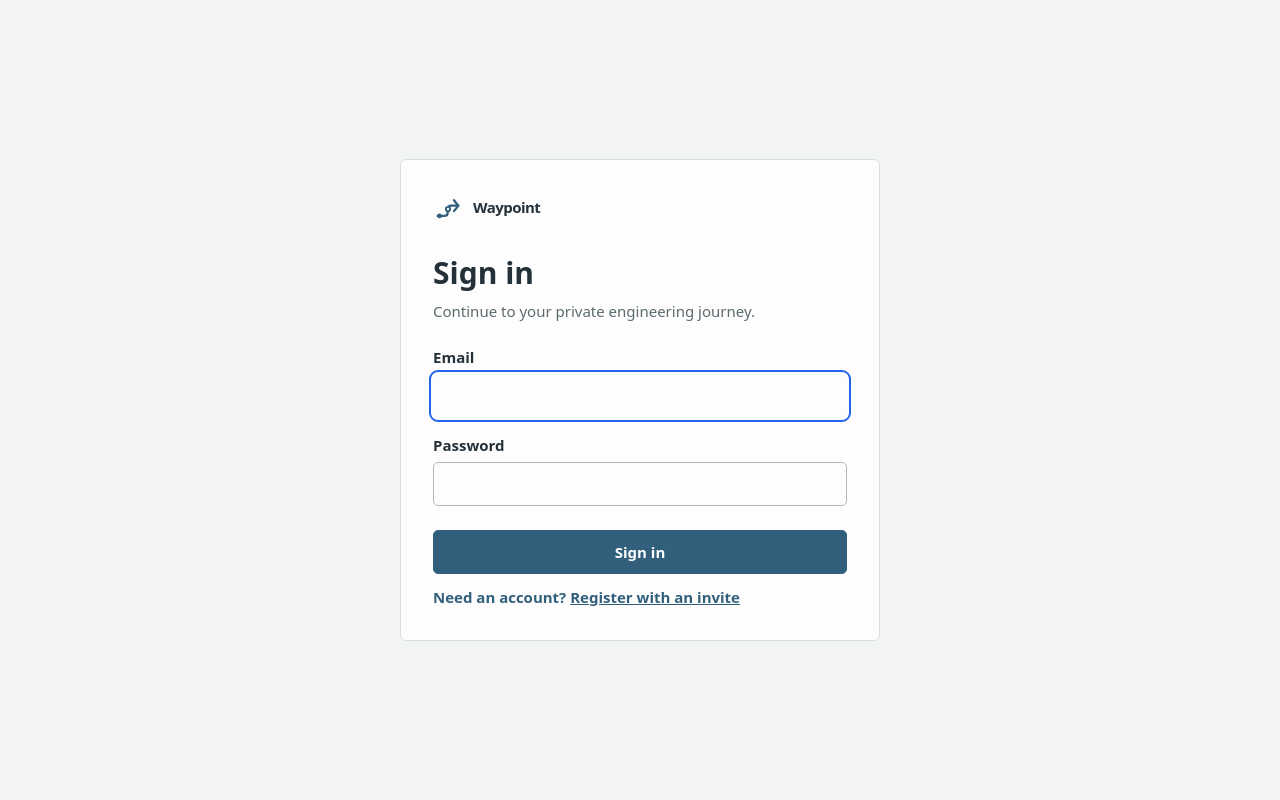
Test: authentication checkpoint › signs in and exposes an owner account menu with sign out
Type "owner@example.test" into the field labelled "Email" at [640, 396], box x1=433 y1=374 x2=847 y2=418
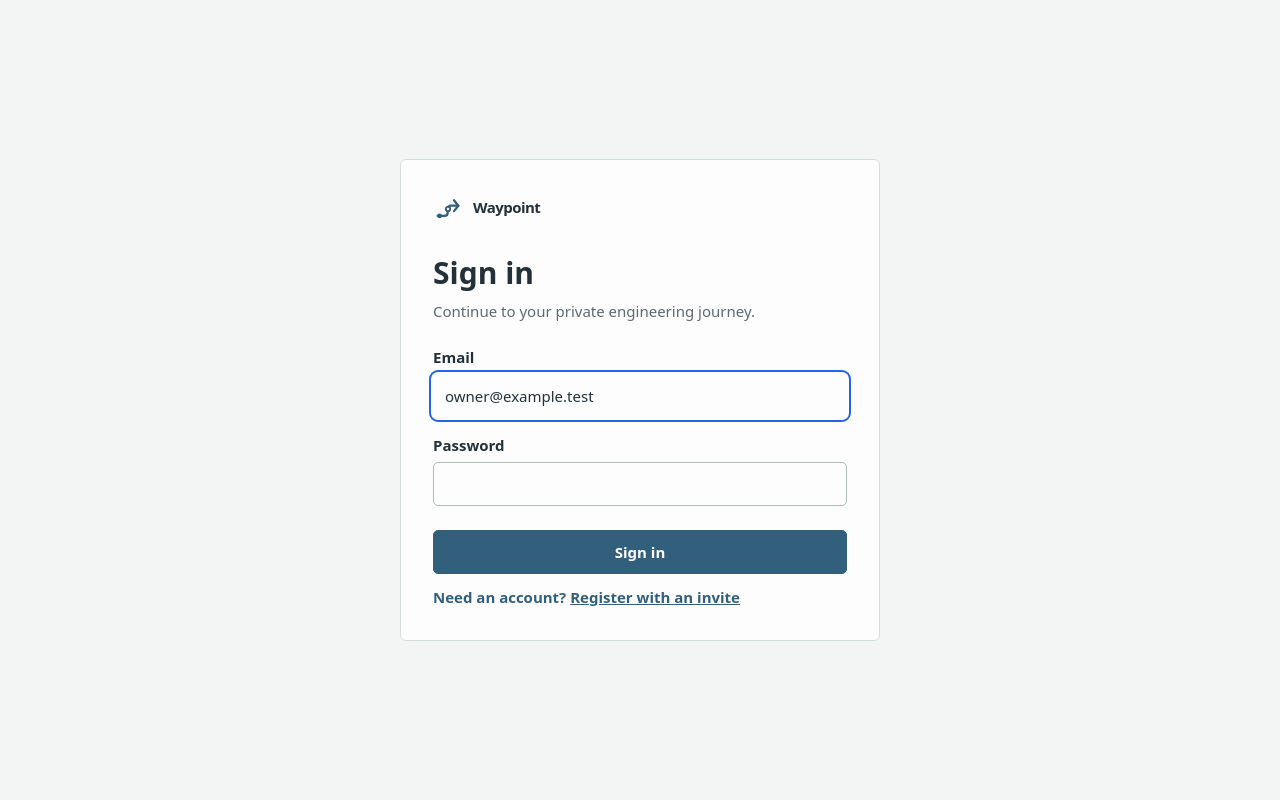
Type "a long passphrase" into the password field labelled "Password" at [640, 484], box x1=433 y1=462 x2=847 y2=506
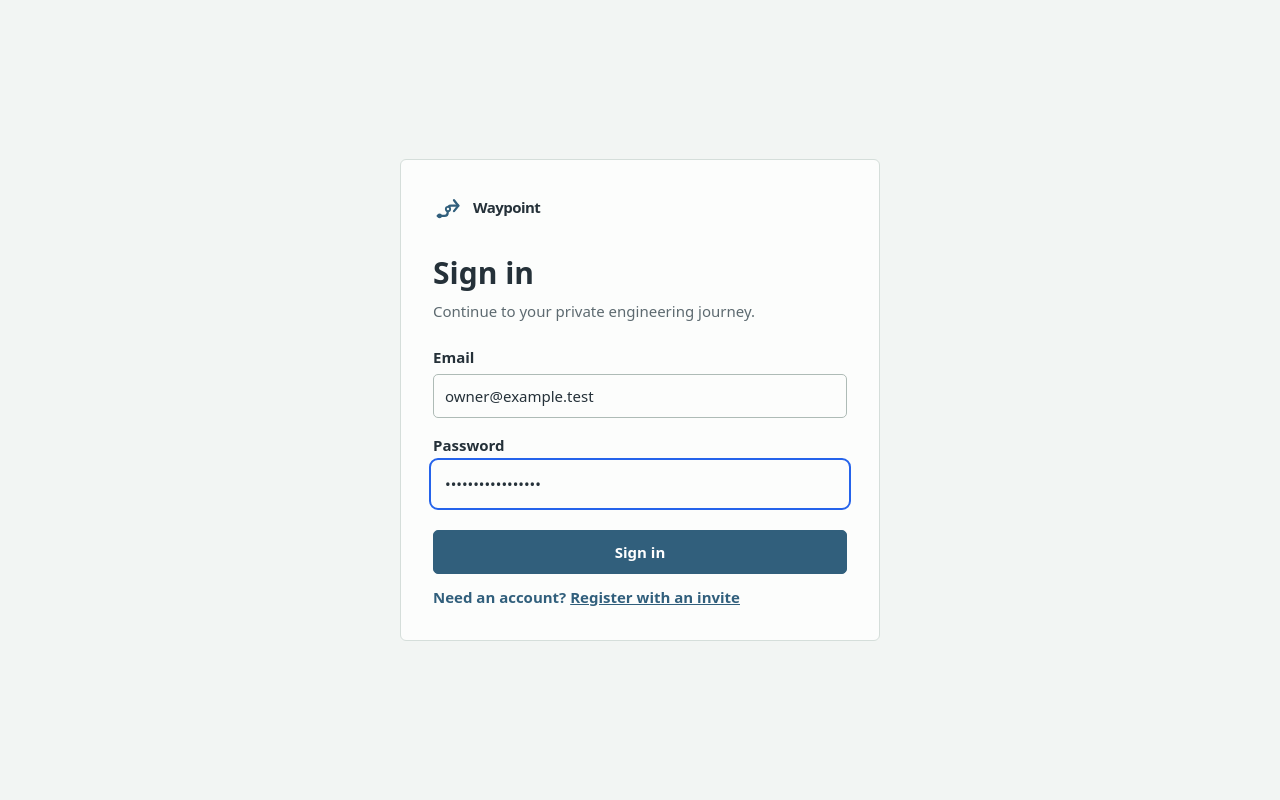
Click the button "Sign in" at [640, 552], box x1=433 y1=530 x2=847 y2=574
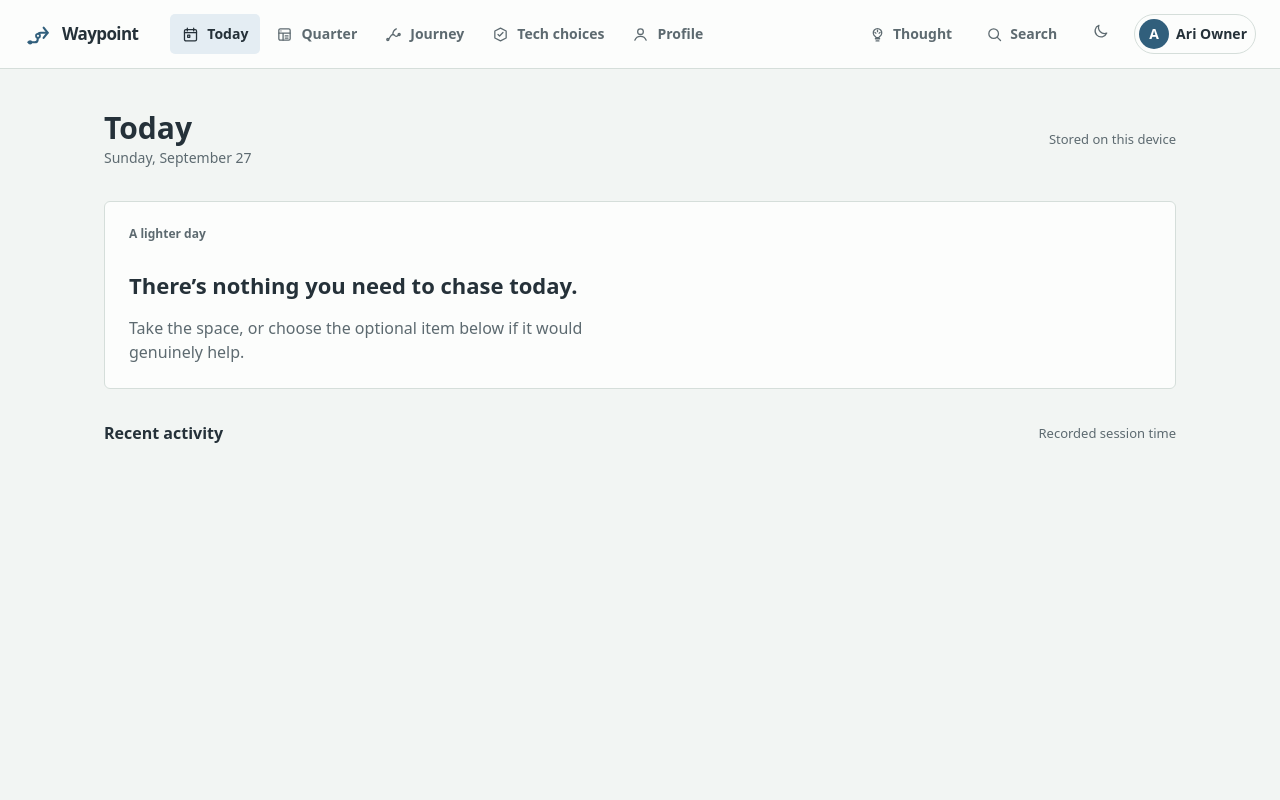
Now the button "A Ari Owner" is shown
Click the button "A Ari Owner" at [1195, 34], box x1=1134 y1=14 x2=1256 y2=54
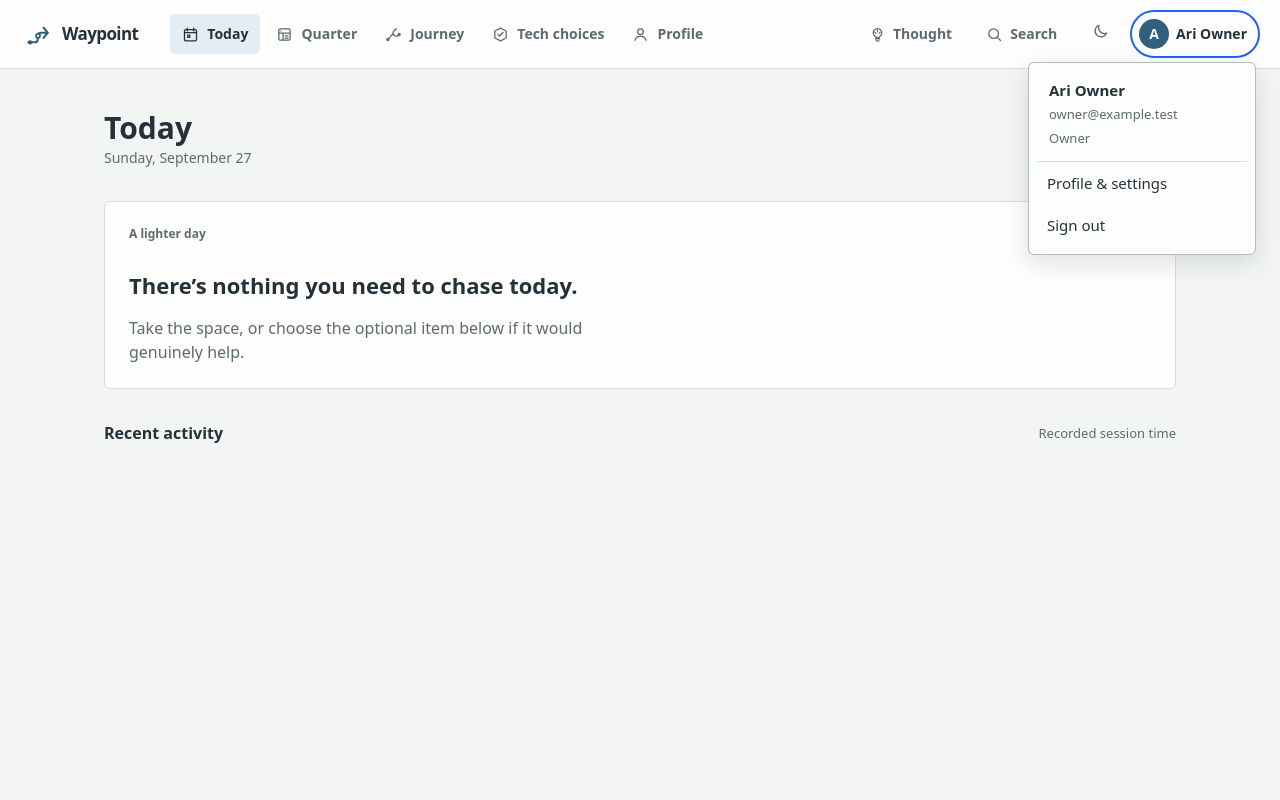
Now the text "Owner" is shown, box x1=1049 y1=129 x2=1090 y2=147
Click the menu item "Sign out" at [1142, 225], box x1=1037 y1=204 x2=1247 y2=246
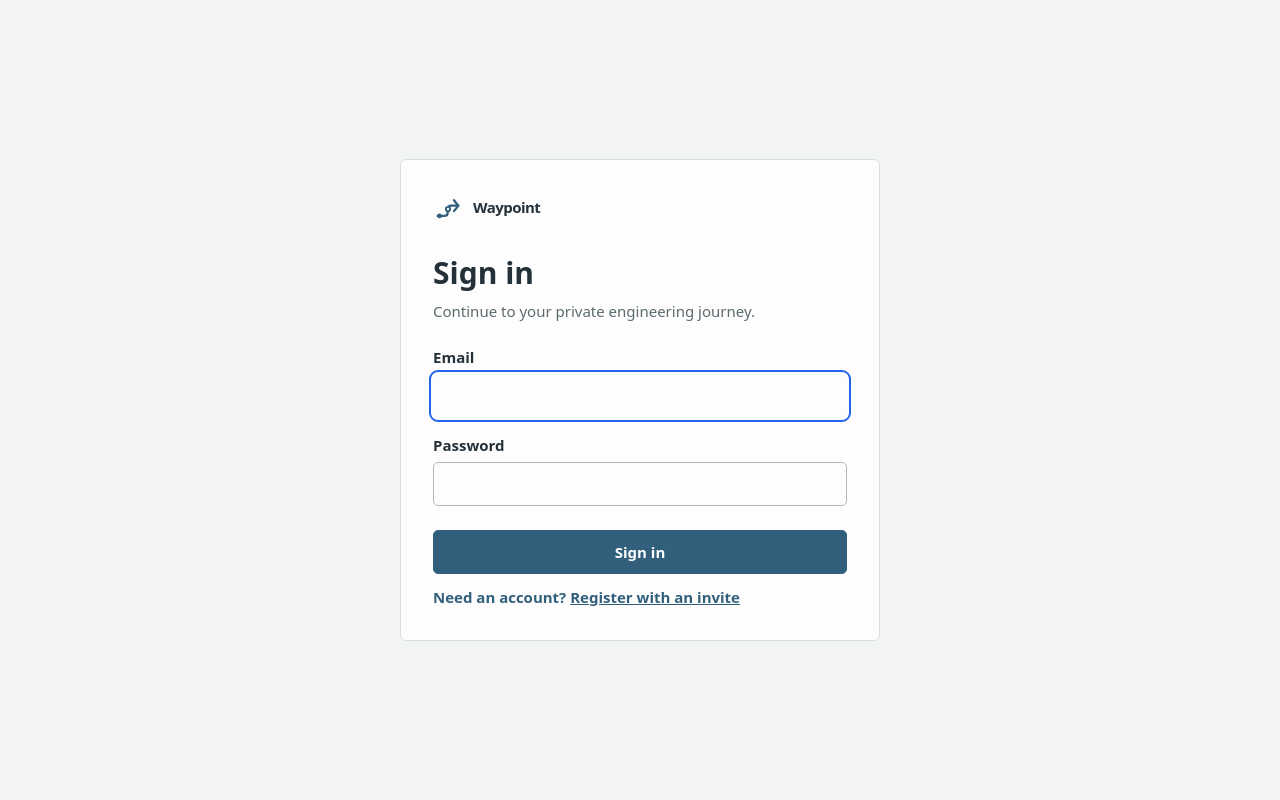
Now the heading "Sign in" is shown, box x1=433 y1=252 x2=534 y2=293
